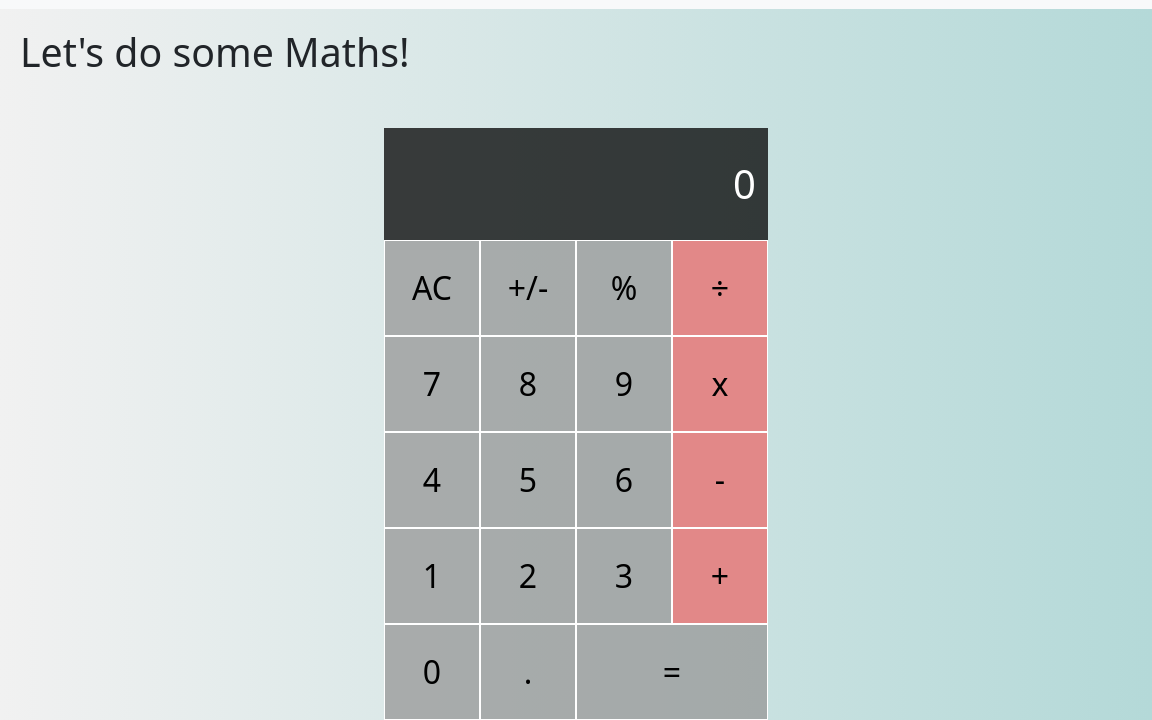
Scenario: If the click number 0 1 0, 10 will be printed in calculator
(page scrolled)
Click the button "0" at (432, 672), box [384,624,480,719]
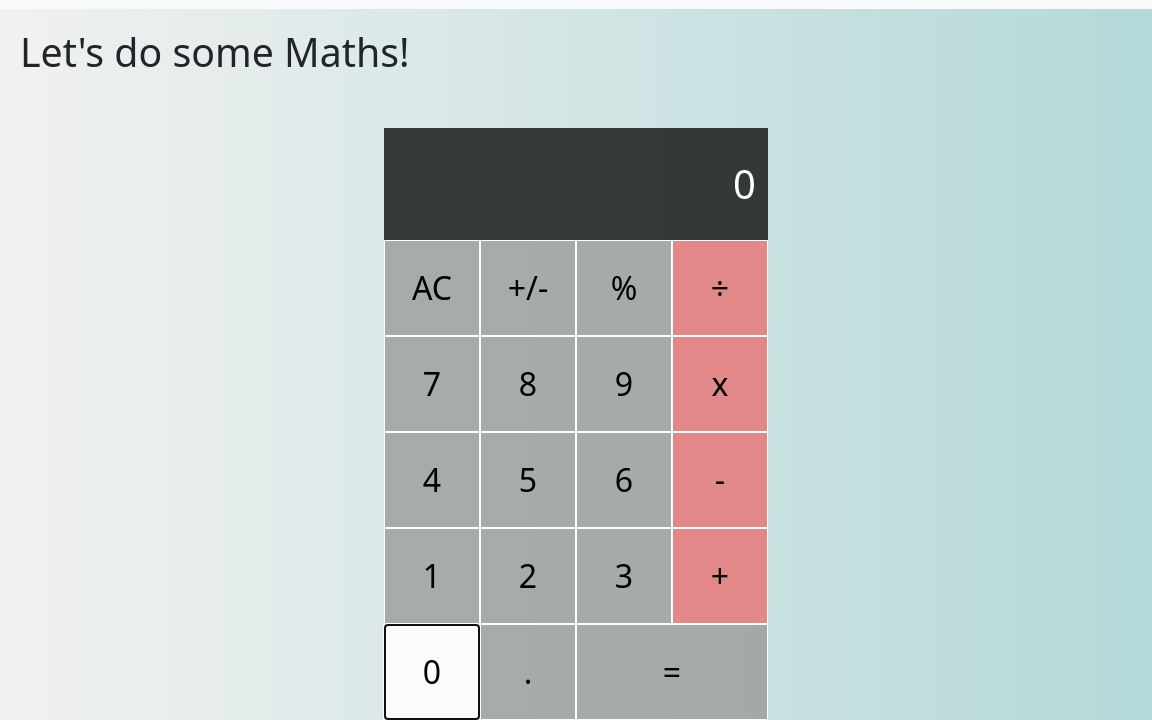
Click the button "1" at (432, 576), box [384,528,480,624]
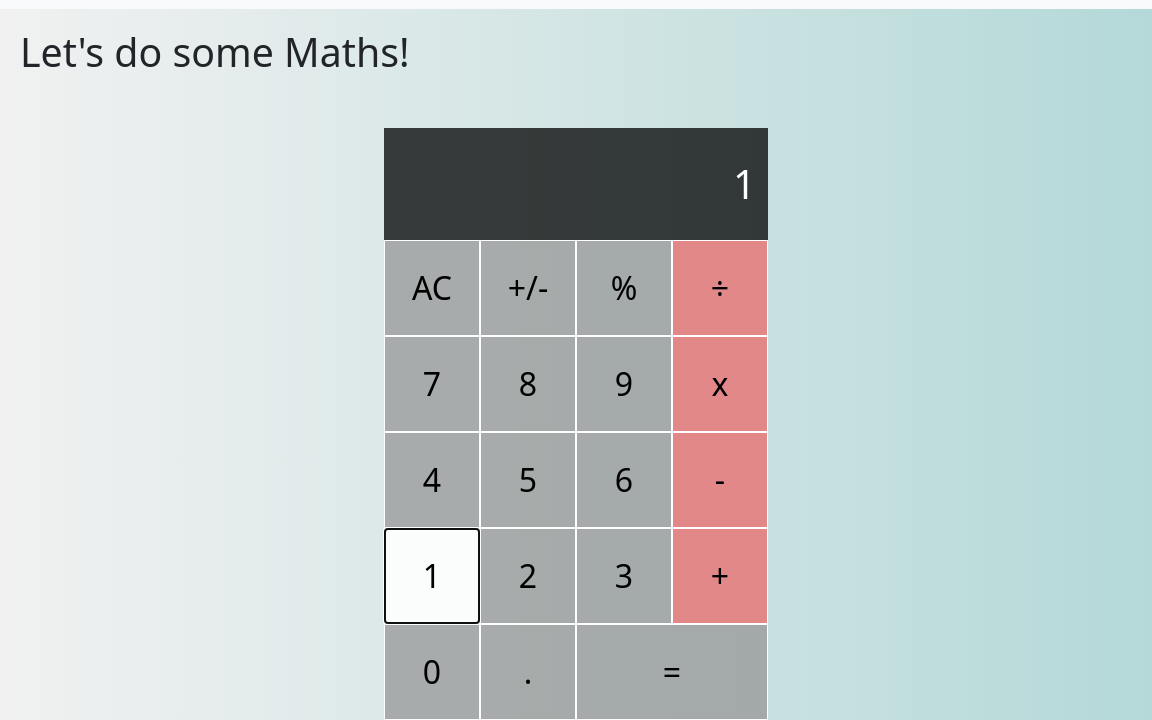
Click the button "0" at (432, 672), box [384,624,480,719]
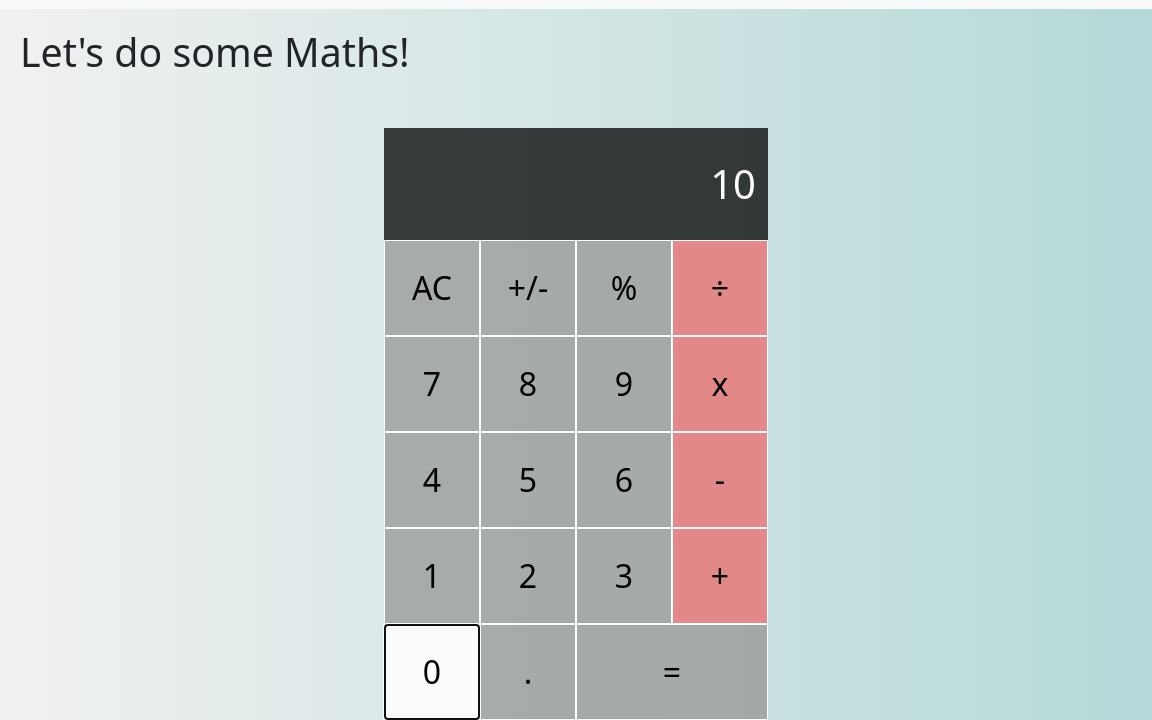
Now the text "10" is shown, box [710,154,756,214]
